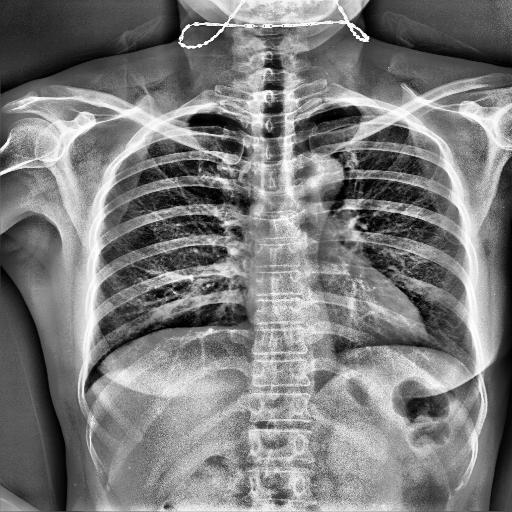0- Aortic enlargement: (283, 150, 345, 200), (291, 152, 344, 210), (292, 150, 344, 200)
